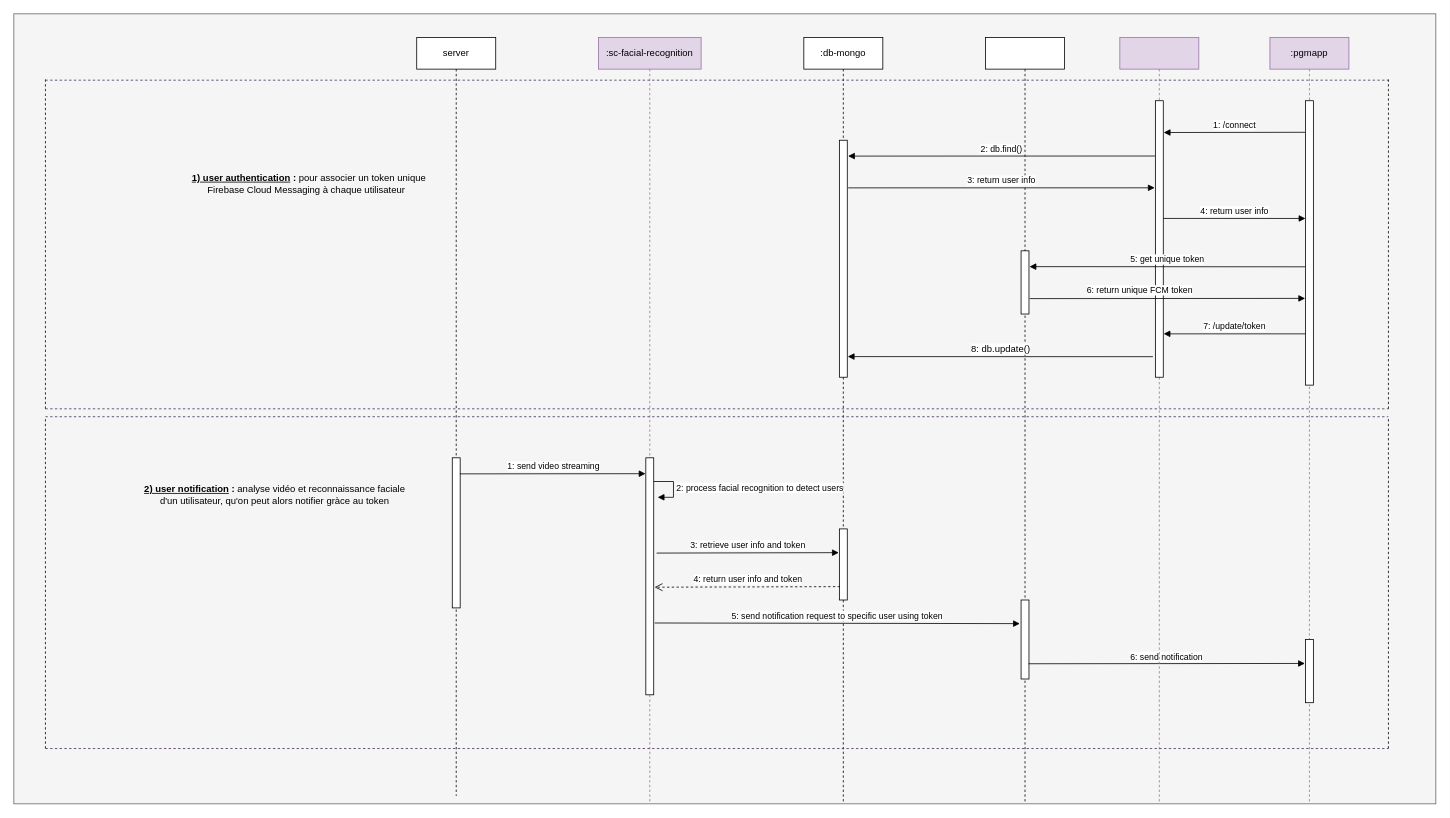
Some shapes in this 1450 by 818 pixel diagram are drawn without their labels. The box of each missing label's shape, as (x1, y1, x2, y2) in pixels:
:firebase: (985, 37, 1065, 804)
:sc-account: (1119, 37, 1199, 804)
